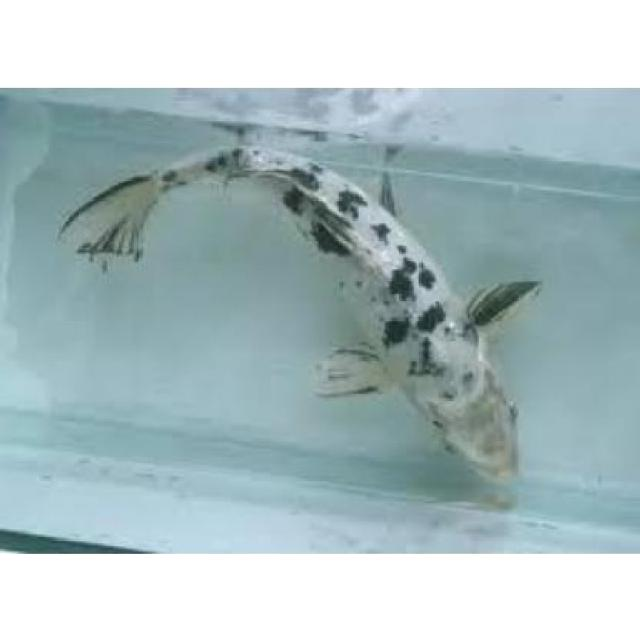ikan-mas: (114, 138, 526, 477)
